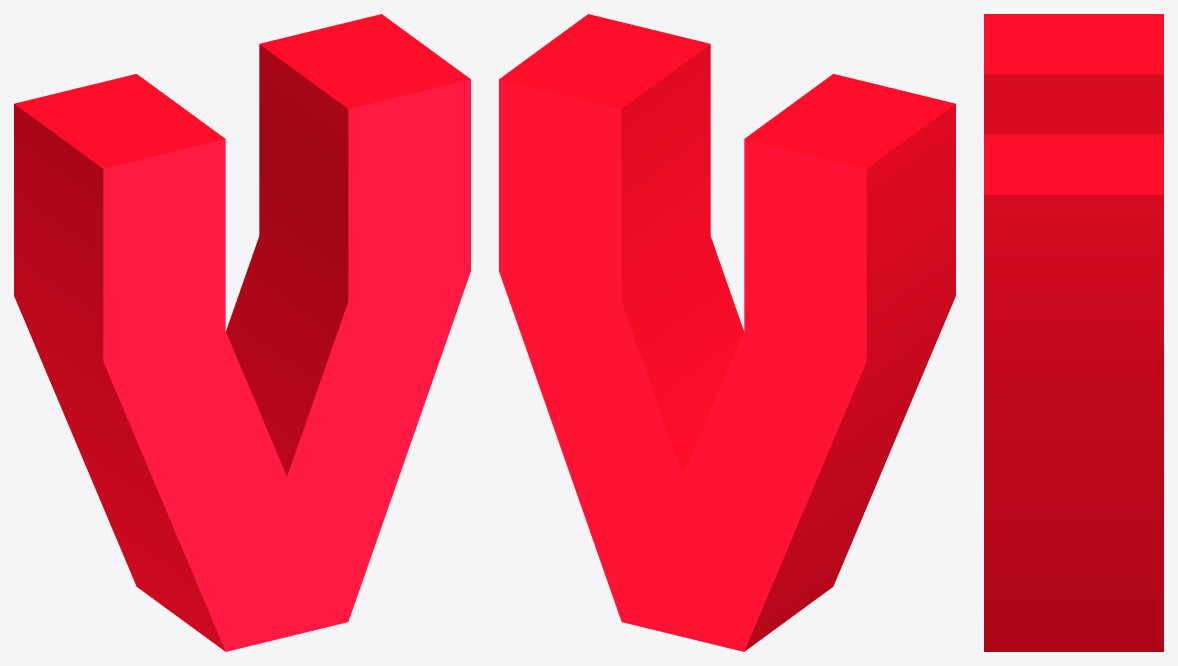
The picture shows the model from 3 angles, left to right: view 1: azimuth 30°, elevation 25°; view 2: azimuth 150°, elevation 25°; view 3: azimuth 270°, elevation 25°; orthographic projection.
Parts seen in each view (by area): view 1: v_DeltaBlock_Red; view 2: v_DeltaBlock_Red; view 3: v_DeltaBlock_Red.
Part boxes in pixels (bbox=[...]): v_DeltaBlock_Red: bbox=[14, 14, 470, 651]; v_DeltaBlock_Red: bbox=[499, 14, 955, 651]; v_DeltaBlock_Red: bbox=[984, 14, 1163, 651].
Size of what is drawn, in the model's own units: 0.1071 by 0.1429 by 0.045.
Materials: 2 (2 with a texture image).
